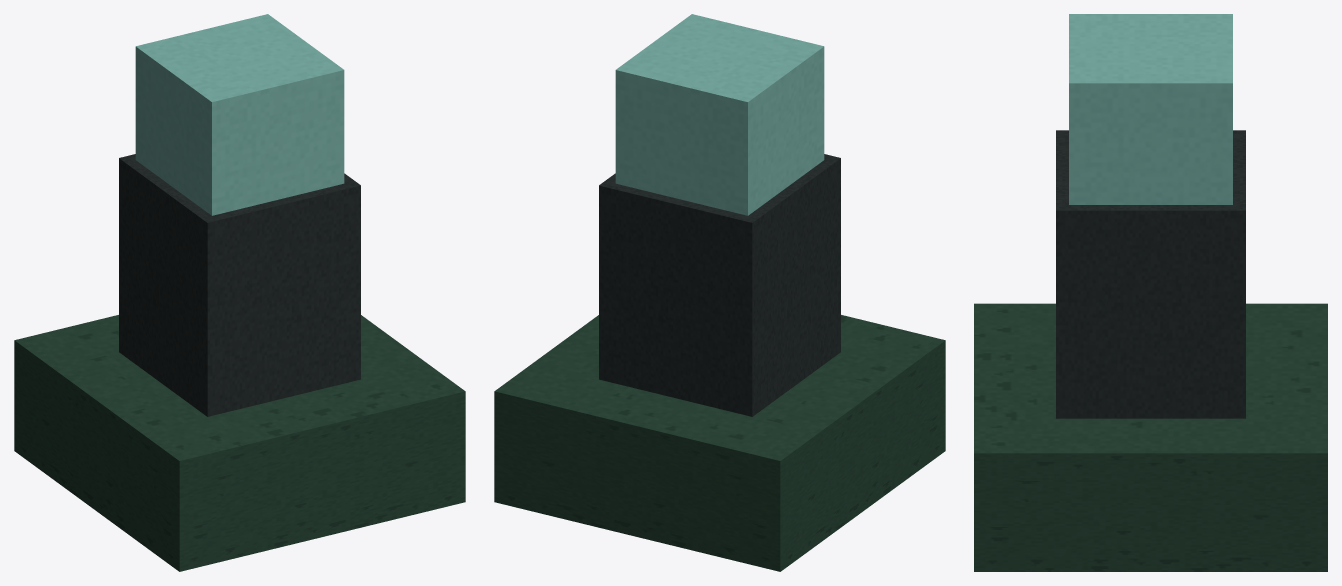
Rendered from DockBeacon.fbx.
3 renders of one model, left to right at view 1: azimuth 30°, elevation 25°; view 2: azimuth 150°, elevation 25°; view 3: azimuth 270°, elevation 25°, orthographic. The views are drawn at different scales.
Parts seen in each view (by area): view 1: DockBeacon; view 2: DockBeacon; view 3: DockBeacon.
Boxes of the visible parts, bbox=[...] form: DockBeacon: bbox=[14, 14, 465, 571]; DockBeacon: bbox=[494, 14, 945, 571]; DockBeacon: bbox=[974, 14, 1327, 571].
Bounding box in the file's own units: 54 × 75.5 × 54.
